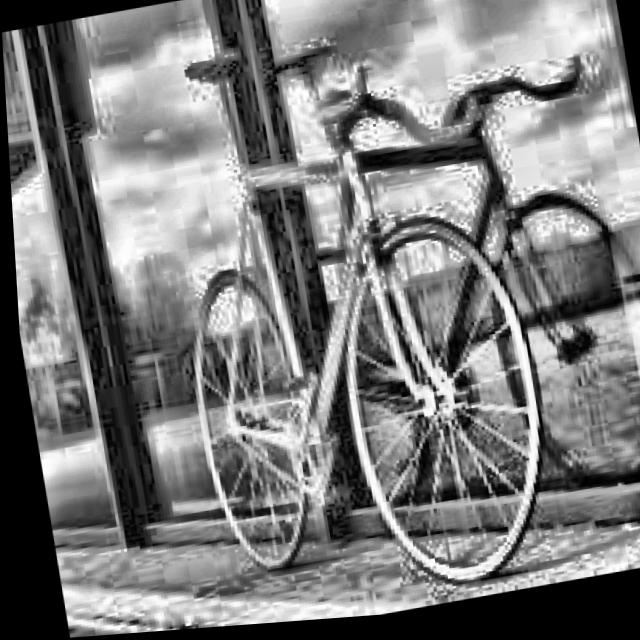motorcycle: (107, 0, 640, 634)
